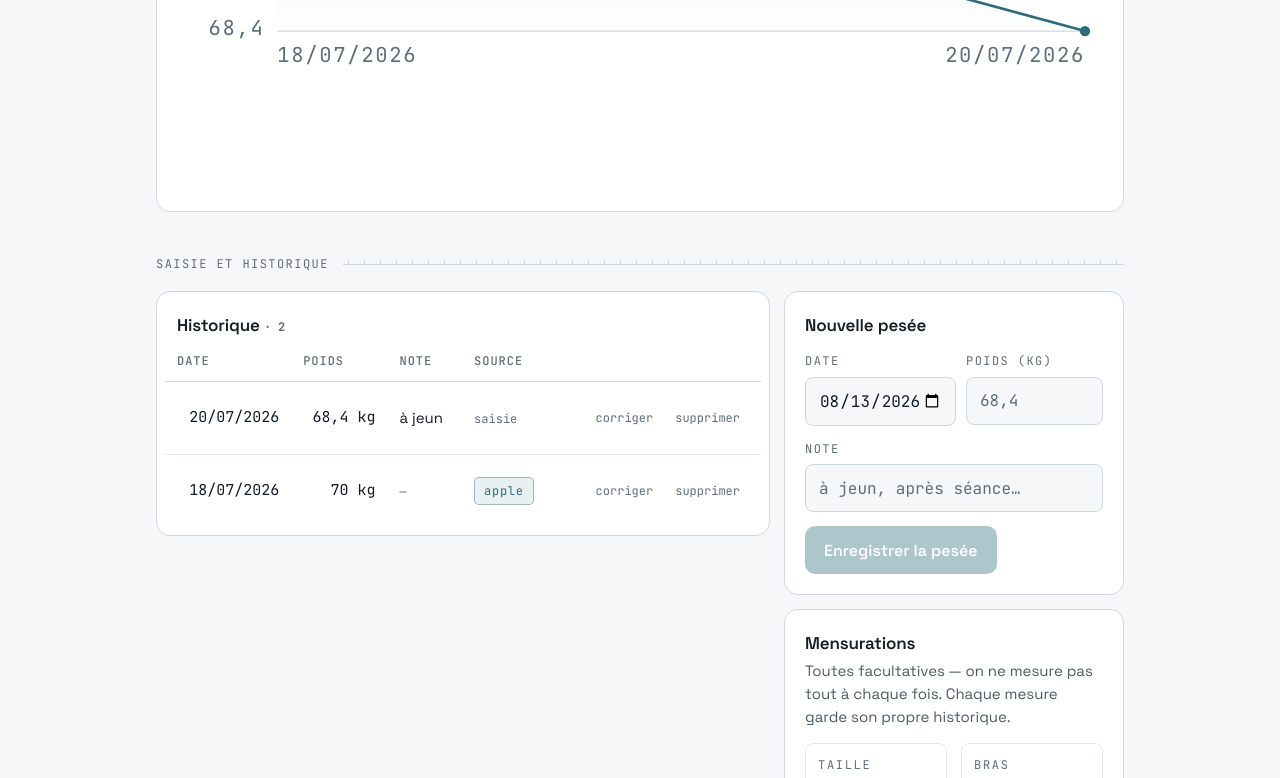
Test: écran Corps › affiche le message du serveur sur une saisie refusée
(page scrolled)
In the field labelled "Poids (kg)": (1034, 401) [966,377,1103,425], type "900"
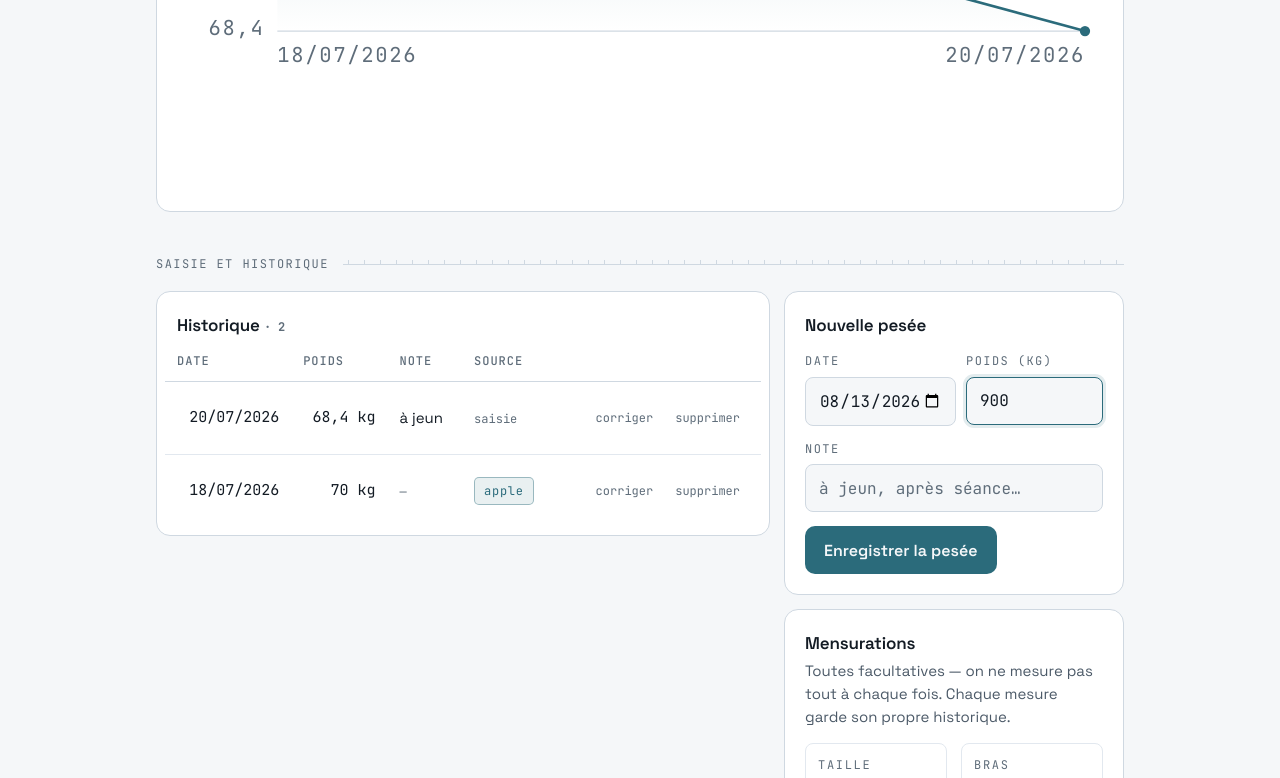
Click the button "Enregistrer la pesée": click(901, 550) [805,526,996,574]
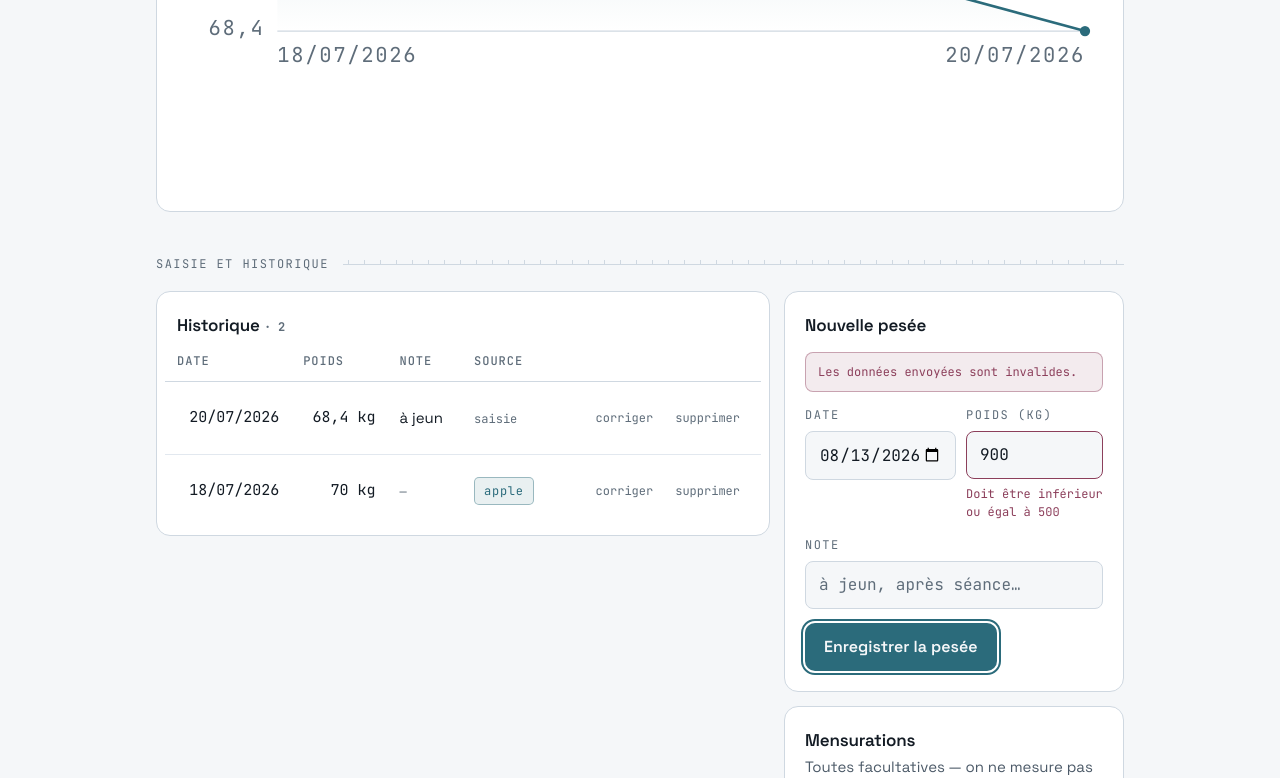
Now the text "Doit être inférieur ou égal à 500" is shown, box [966,485,1103,522]
